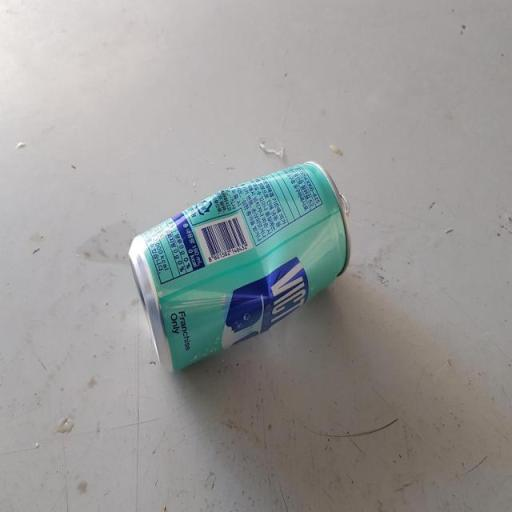metal: (103, 132, 354, 382)
